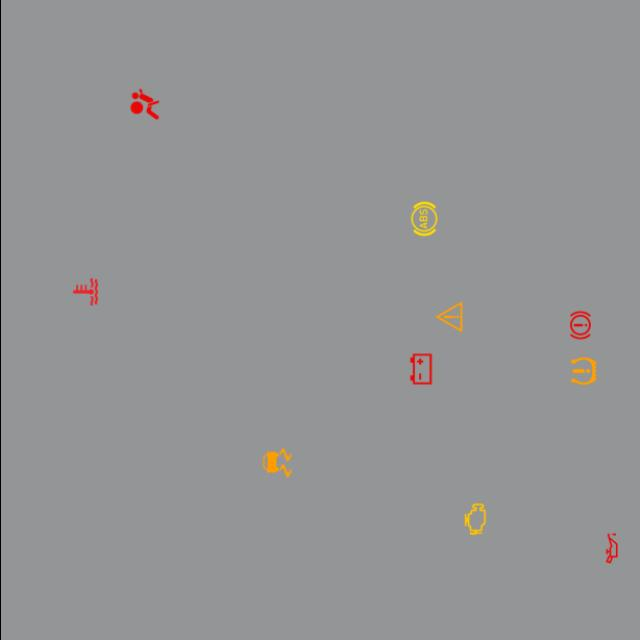Anti Lock Braking System: (404, 200, 442, 238)
Braking System Issue: (560, 306, 598, 344)
Charging System Issue: (401, 350, 439, 388)
Check Engine: (456, 500, 494, 538)
Electronic Stability Problem -ESP-: (257, 444, 295, 482)
Engine Overheating Warning Light: (65, 273, 104, 311)
Low Engine Oil Warning Light: (592, 530, 630, 568)
Low Tire Pressure Warning Light: (564, 352, 602, 390)
Master warning light: (429, 298, 467, 336)
SRS-Airbag: (125, 85, 163, 123)
